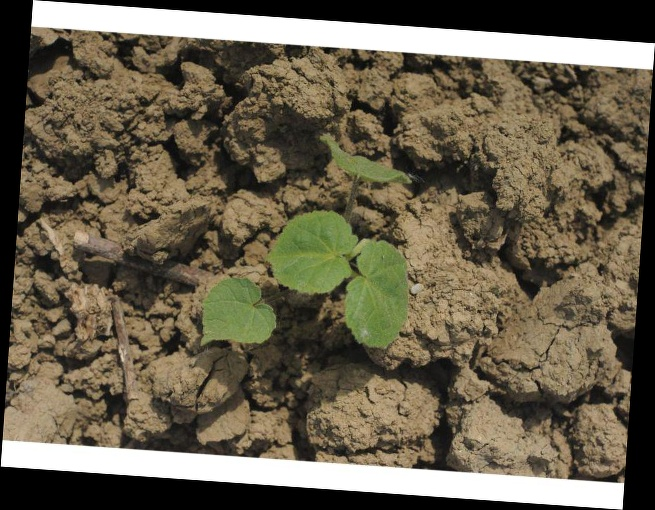velvet: (205, 135, 413, 357)
